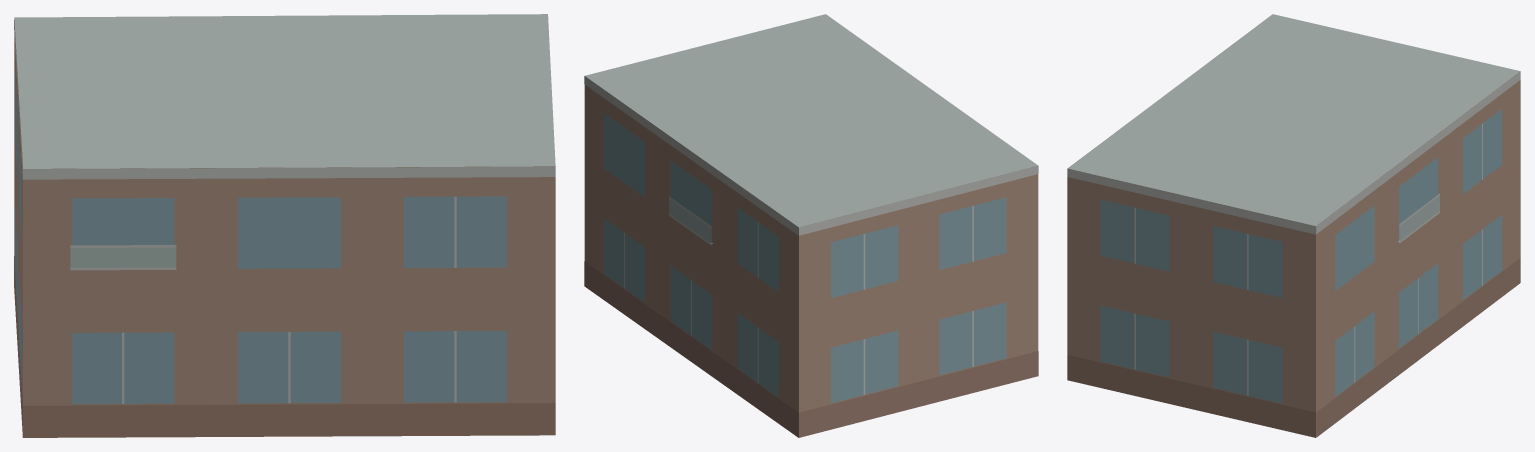
Rendered from survey-upis-32911481.glb.
3 renders of one model, left to right at view 1: azimuth 30°, elevation 25°; view 2: azimuth 150°, elevation 25°; view 3: azimuth 270°, elevation 25°, orthographic. The views are drawn at different scales.
Visible parts, largest first — view 1: survey-upis-32911481.tmp; view 2: survey-upis-32911481.tmp; view 3: survey-upis-32911481.tmp.
Part boxes in pixels (x1,y1,x2,y2): survey-upis-32911481.tmp: (14,14,555,437); survey-upis-32911481.tmp: (584,14,1038,437); survey-upis-32911481.tmp: (1067,14,1520,437).
Bounding box in the file's own units: 13.12 × 6.1 × 11.85.
